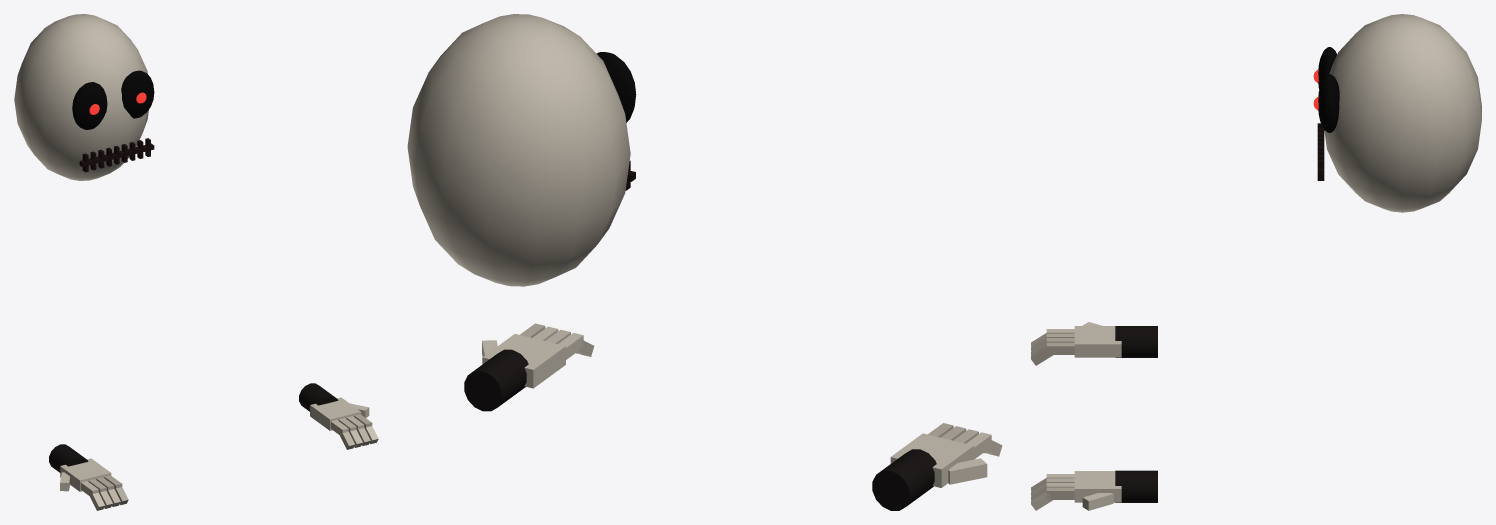
File: entity3.glb
3 views of the same model, side by side, from view 1: azimuth 30°, elevation 25°; view 2: azimuth 150°, elevation 25°; view 3: azimuth 270°, elevation 25° (orthographic). The views are drawn at different scales.
Parts seen in each view (by area): view 1: Mask, HandR, HandL; view 2: Mask, HandL, HandR; view 3: Mask, HandR, HandL.
Part boxes in pixels (box(x1,y1,x2,y2)): Mask: box(14, 14, 154, 180); HandR: box(299, 383, 378, 449); HandL: box(49, 444, 128, 510); Mask: box(407, 14, 636, 286); HandL: box(872, 423, 1002, 510); HandR: box(464, 323, 594, 411); Mask: box(1317, 14, 1481, 212); HandR: box(1031, 470, 1157, 510); HandL: box(1031, 322, 1157, 365).
Bounding box in the file's own units: 1.98 × 2.11 × 2.1.
